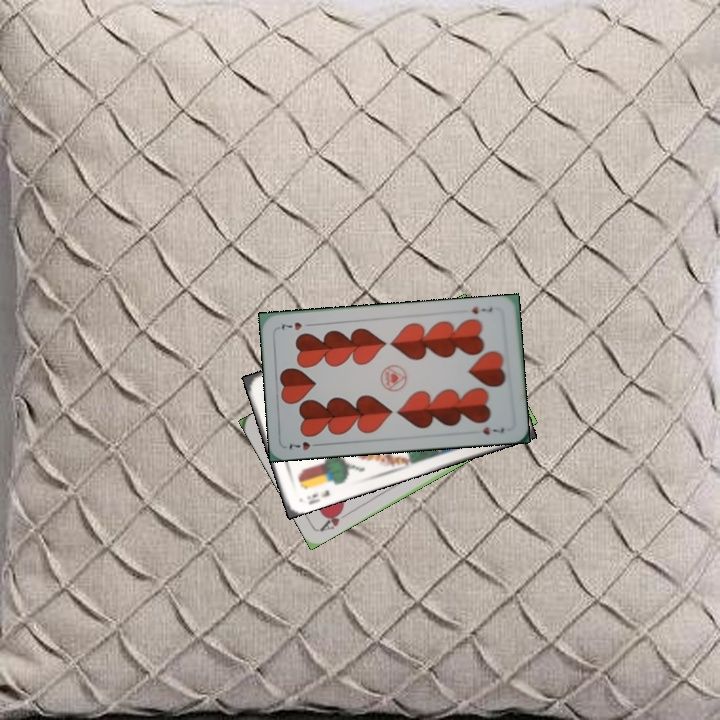EK: (303, 486, 332, 507)
H7: (284, 438, 324, 453), (468, 302, 495, 316)
HA: (316, 504, 353, 534)
